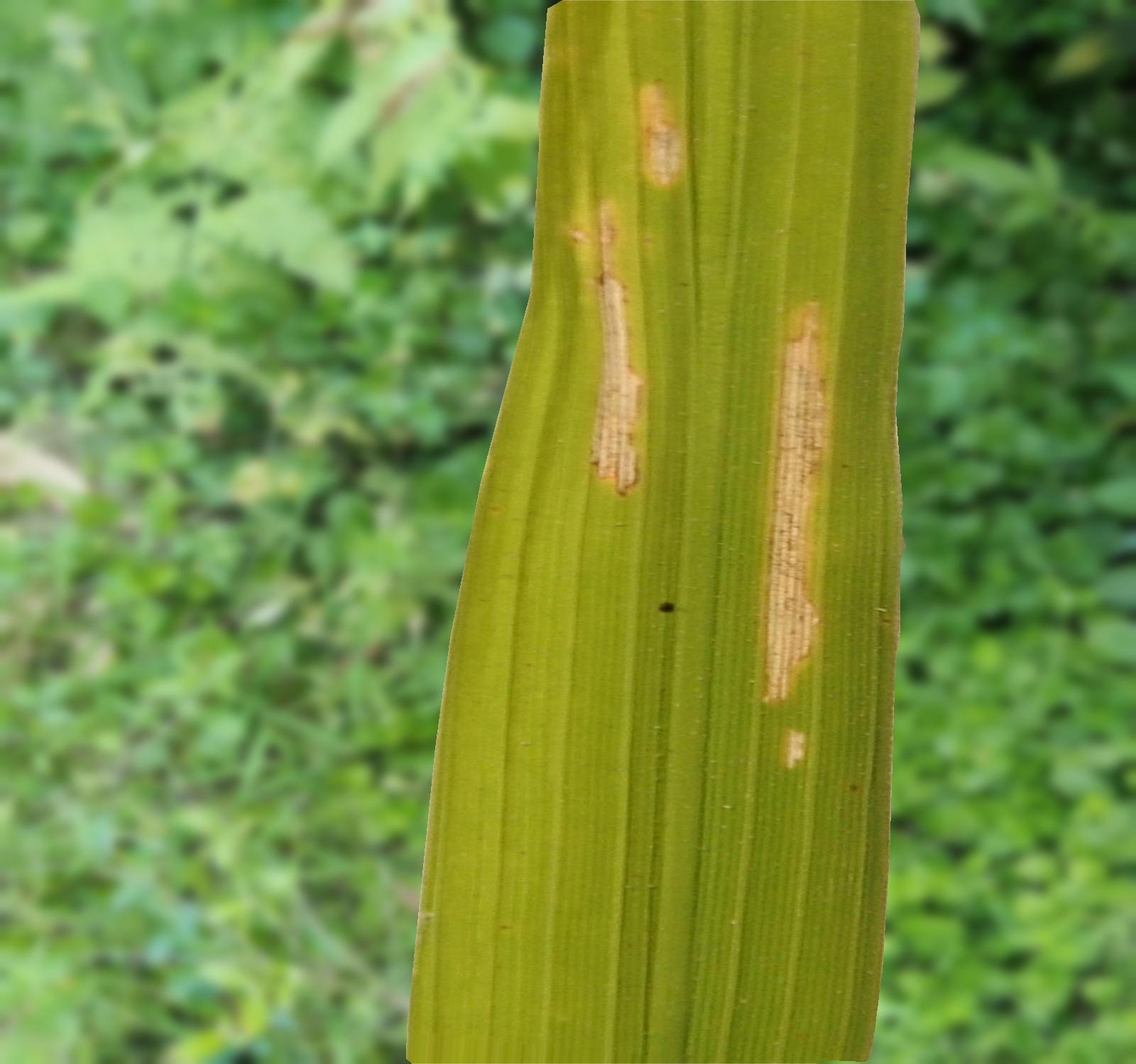BLS: (763, 301, 826, 702), (566, 201, 641, 494), (638, 82, 683, 188)
LEAF: (406, 0, 919, 1063)
